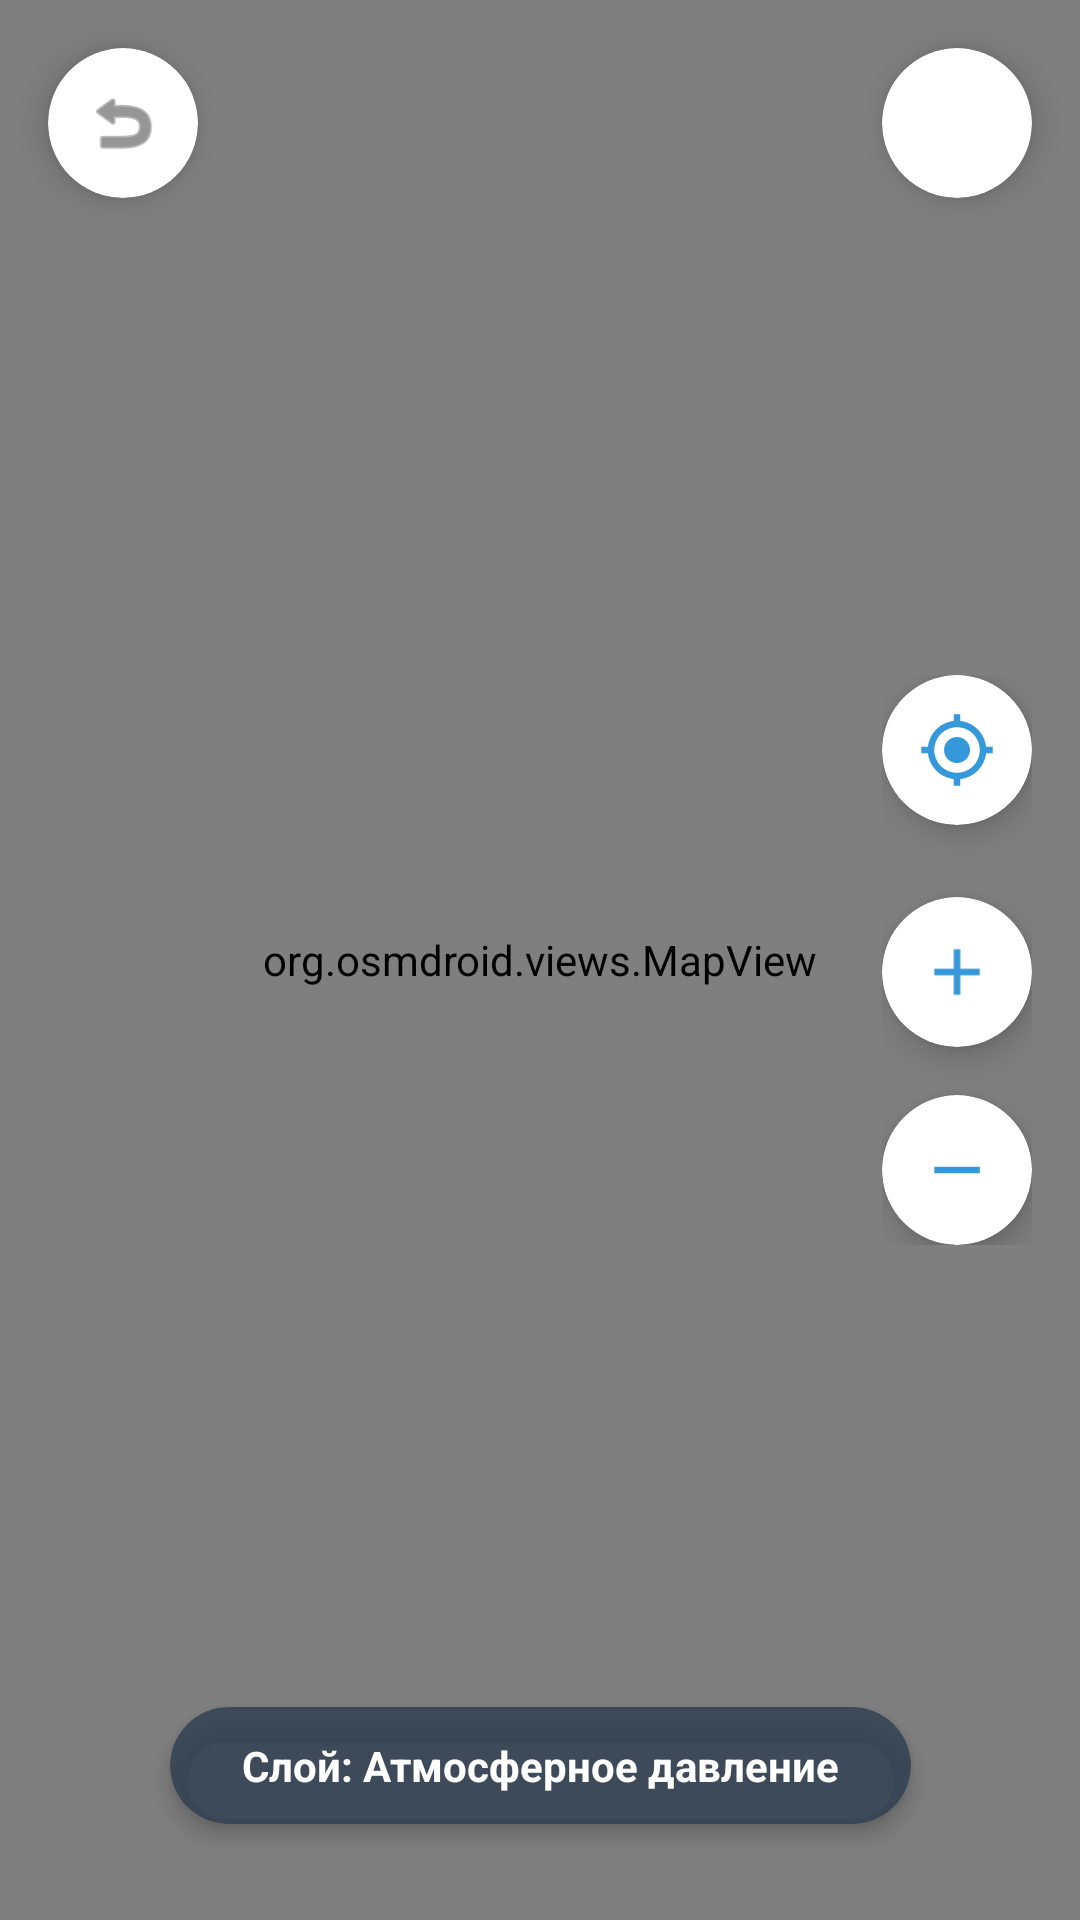

Screen size 1080×1920. Icon name, then its box in pixels as (x1, y1, x2, y2):
location: (882, 675, 1032, 825)
minus: (882, 1095, 1032, 1245)
plus: (882, 897, 1032, 1047)
revert: (48, 48, 198, 198)
